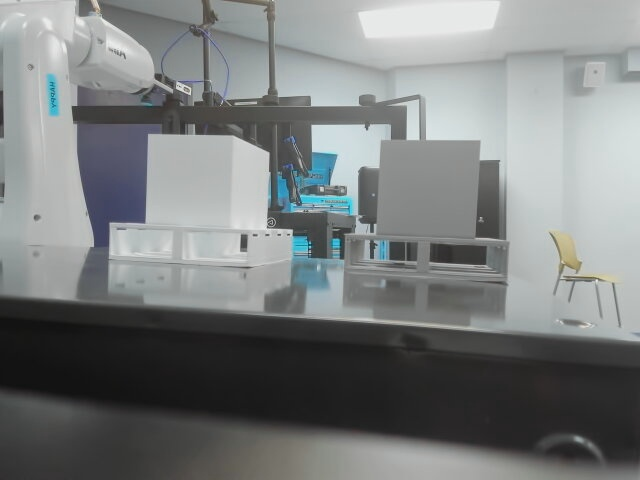grey pallet: (343, 134, 517, 285)
white pallet: (106, 126, 295, 267)
